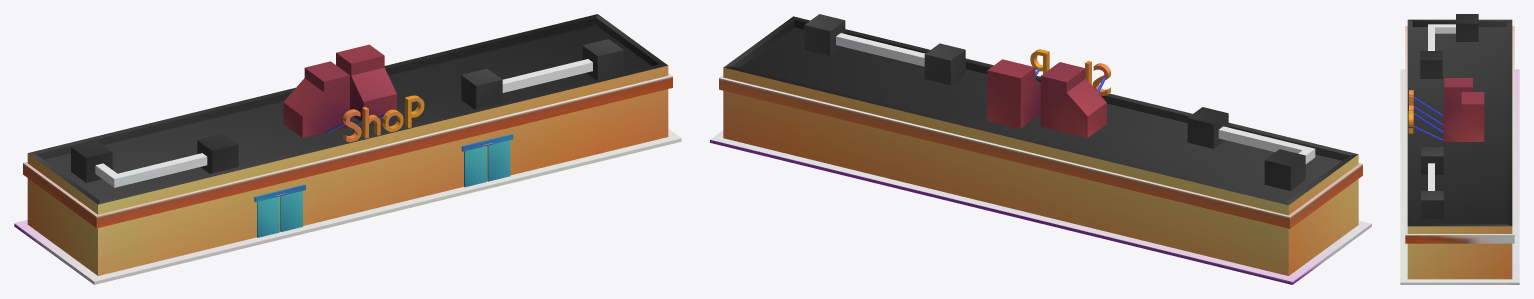
The model's file is Shop_2.fbx.
The picture shows the model from 3 angles, left to right: view 1: azimuth 30°, elevation 25°; view 2: azimuth 150°, elevation 25°; view 3: azimuth 270°, elevation 25°; orthographic projection. The views are drawn at different scales.
Visible parts, largest first — view 1: Shop_2; view 2: Shop_2; view 3: Shop_2.
Part boxes in pixels (x1,y1,x2,y2): Shop_2: (14, 14, 681, 284); Shop_2: (710, 14, 1371, 284); Shop_2: (1400, 14, 1519, 284).
Size of the model in its own units: 4479 by 862 by 1058.
Materials: 1 (1 with a texture image).
